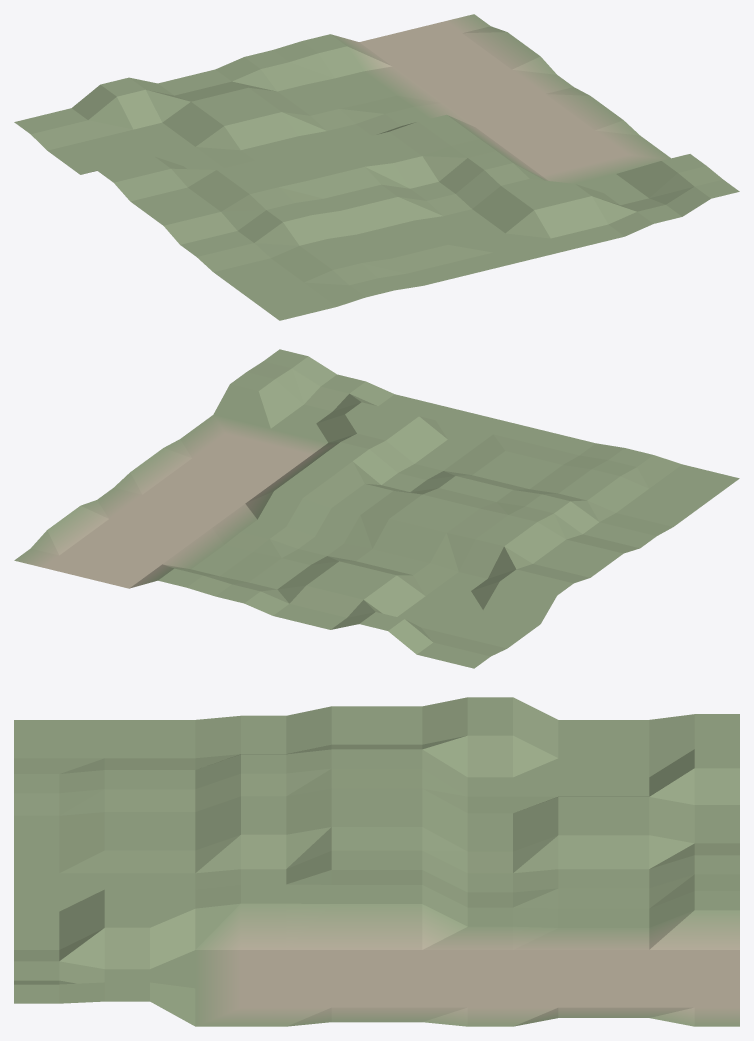
The picture shows the model from 3 angles, top to bottom: view 1: azimuth 30°, elevation 25°; view 2: azimuth 150°, elevation 25°; view 3: azimuth 270°, elevation 25°; orthographic projection. The views are drawn at different scales.
Size of the model in its own units: 32 by 1.38 by 32.
